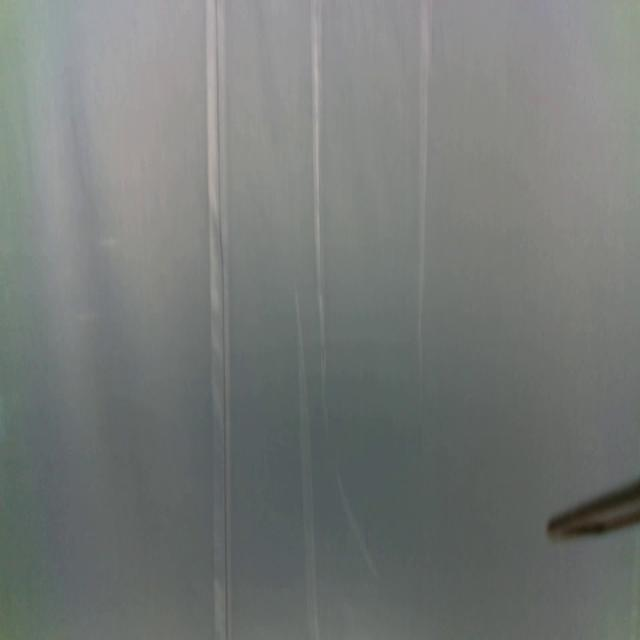crease: (205, 0, 232, 640), (293, 287, 318, 639), (310, 0, 327, 399), (418, 0, 433, 393), (334, 466, 380, 582)
